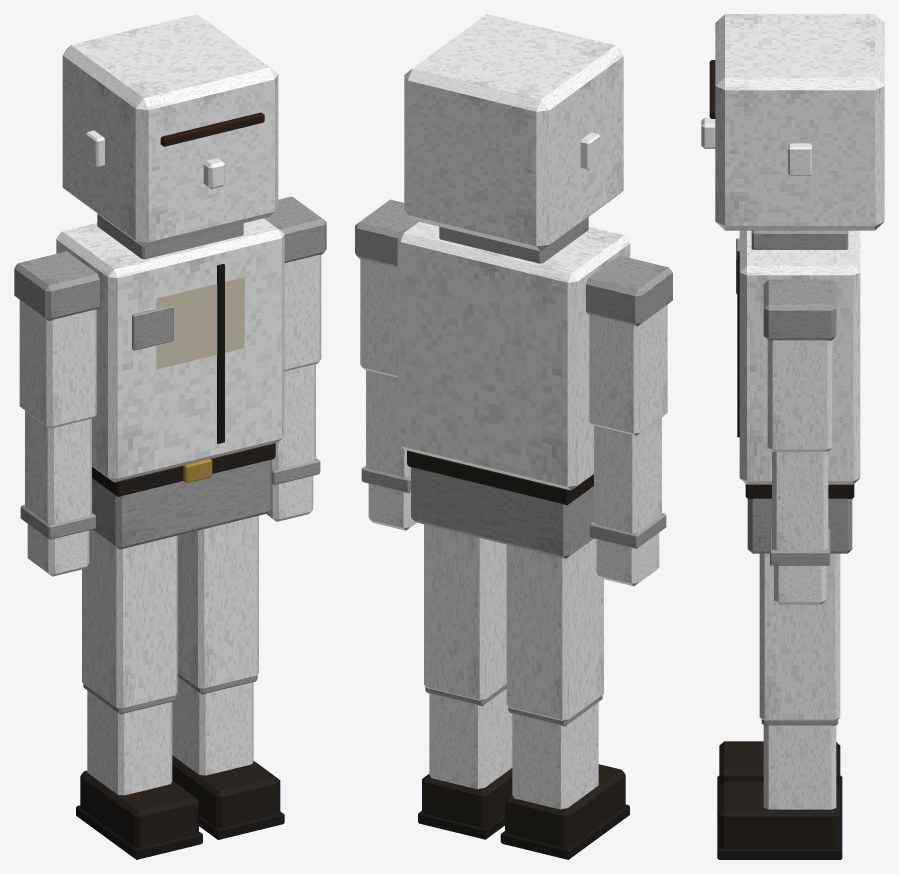
Rendered from subject.glb.
3 renders of one model, left to right at view 1: azimuth 30°, elevation 25°; view 2: azimuth 150°, elevation 25°; view 3: azimuth 270°, elevation 25°, orthographic. The views are drawn at different scales.
Parts seen in each view (by area): view 1: skull, chest, thigh_legL, thigh_legR, pelvis, upper_armL, shin_legL, shin_legR, fore_armL, boot_legL, patch_card, boot_legR (+17 smaller); view 2: chest, skull, thigh_legL, thigh_legR, pelvis, upper_armL, shin_legL, shin_legR, fore_armL, boot_legL, shoulder_armL, upper_armR (+12 smaller); view 3: skull, chest, thigh_legR, upper_armR, shin_legR, boot_legR, fore_armR, shoulder_armR, pelvis, handmesh_armR, boot_legL, collar (+8 smaller).
Boxes of the visible parts, x1=… form: skull: x1=62, y1=14, x2=278, y2=247; chest: x1=56, y1=218, x2=284, y2=482; thigh_legL: x1=82, y1=529, x2=177, y2=708; thigh_legR: x1=177, y1=515, x2=258, y2=689; pelvis: x1=92, y1=459, x2=271, y2=549; upper_armL: x1=19, y1=300, x2=96, y2=428; shin_legL: x1=87, y1=690, x2=172, y2=795; shin_legR: x1=172, y1=677, x2=253, y2=775; fore_armL: x1=25, y1=410, x2=91, y2=524; boot_legL: x1=80, y1=770, x2=198, y2=847; patch_card: x1=156, y1=277, x2=244, y2=369; boot_legR: x1=172, y1=755, x2=280, y2=828; chest: x1=397, y1=222, x2=630, y2=490; skull: x1=404, y1=14, x2=623, y2=251; thigh_legL: x1=506, y1=538, x2=603, y2=721; thigh_legR: x1=424, y1=524, x2=506, y2=700; pelvis: x1=411, y1=467, x2=593, y2=558; upper_armL: x1=589, y1=304, x2=667, y2=435; shin_legL: x1=512, y1=702, x2=598, y2=809; shin_legR: x1=429, y1=688, x2=512, y2=789; fore_armL: x1=594, y1=417, x2=661, y2=533; boot_legL: x1=505, y1=764, x2=625, y2=847; shoulder_armL: x1=586, y1=255, x2=672, y2=326; upper_armR: x1=360, y1=259, x2=397, y2=377; skull: x1=715, y1=14, x2=884, y2=230; chest: x1=739, y1=230, x2=860, y2=484; thigh_legR: x1=759, y1=553, x2=840, y2=720; upper_armR: x1=767, y1=340, x2=832, y2=451; shin_legR: x1=763, y1=725, x2=836, y2=809; boot_legR: x1=719, y1=782, x2=840, y2=848; fore_armR: x1=772, y1=451, x2=828, y2=550; shoulder_armR: x1=763, y1=279, x2=836, y2=340; pelvis: x1=747, y1=498, x2=852, y2=553; handmesh_armR: x1=774, y1=565, x2=826, y2=604; boot_legL: x1=719, y1=741, x2=840, y2=785; collar: x1=751, y1=230, x2=848, y2=249.
Size of the model in its own units: 0.83 by 2.13 by 0.455.
8 materials, 3 textured.
